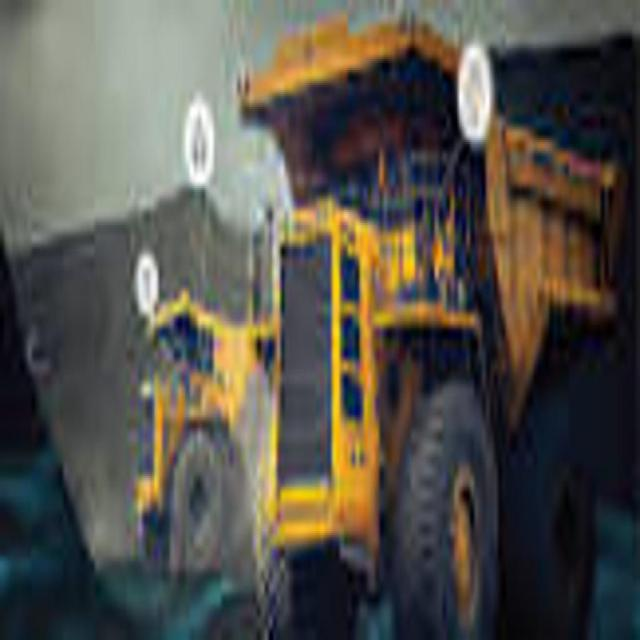dump_truck: (237, 0, 623, 640), (131, 277, 279, 595)
